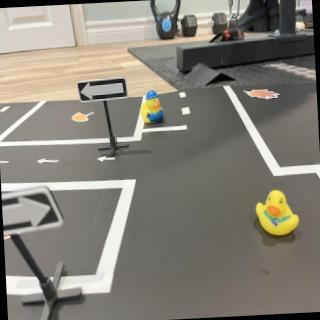duck_regular: (254, 188, 303, 241)
duck_specialty: (140, 90, 165, 128)
road_oneway: (37, 155, 62, 169), (95, 154, 119, 166)
sign_oneway_left: (78, 79, 129, 103)
sign_oneway_right: (3, 188, 67, 235)
